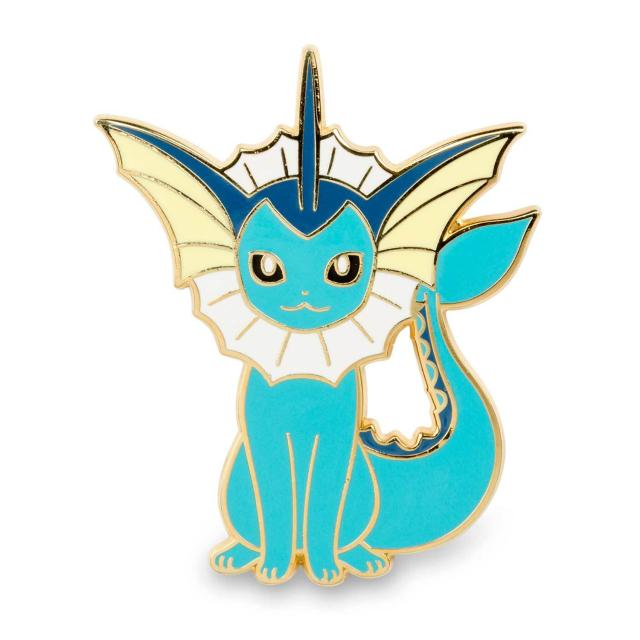Vaporeon: (136, 91, 473, 581)
